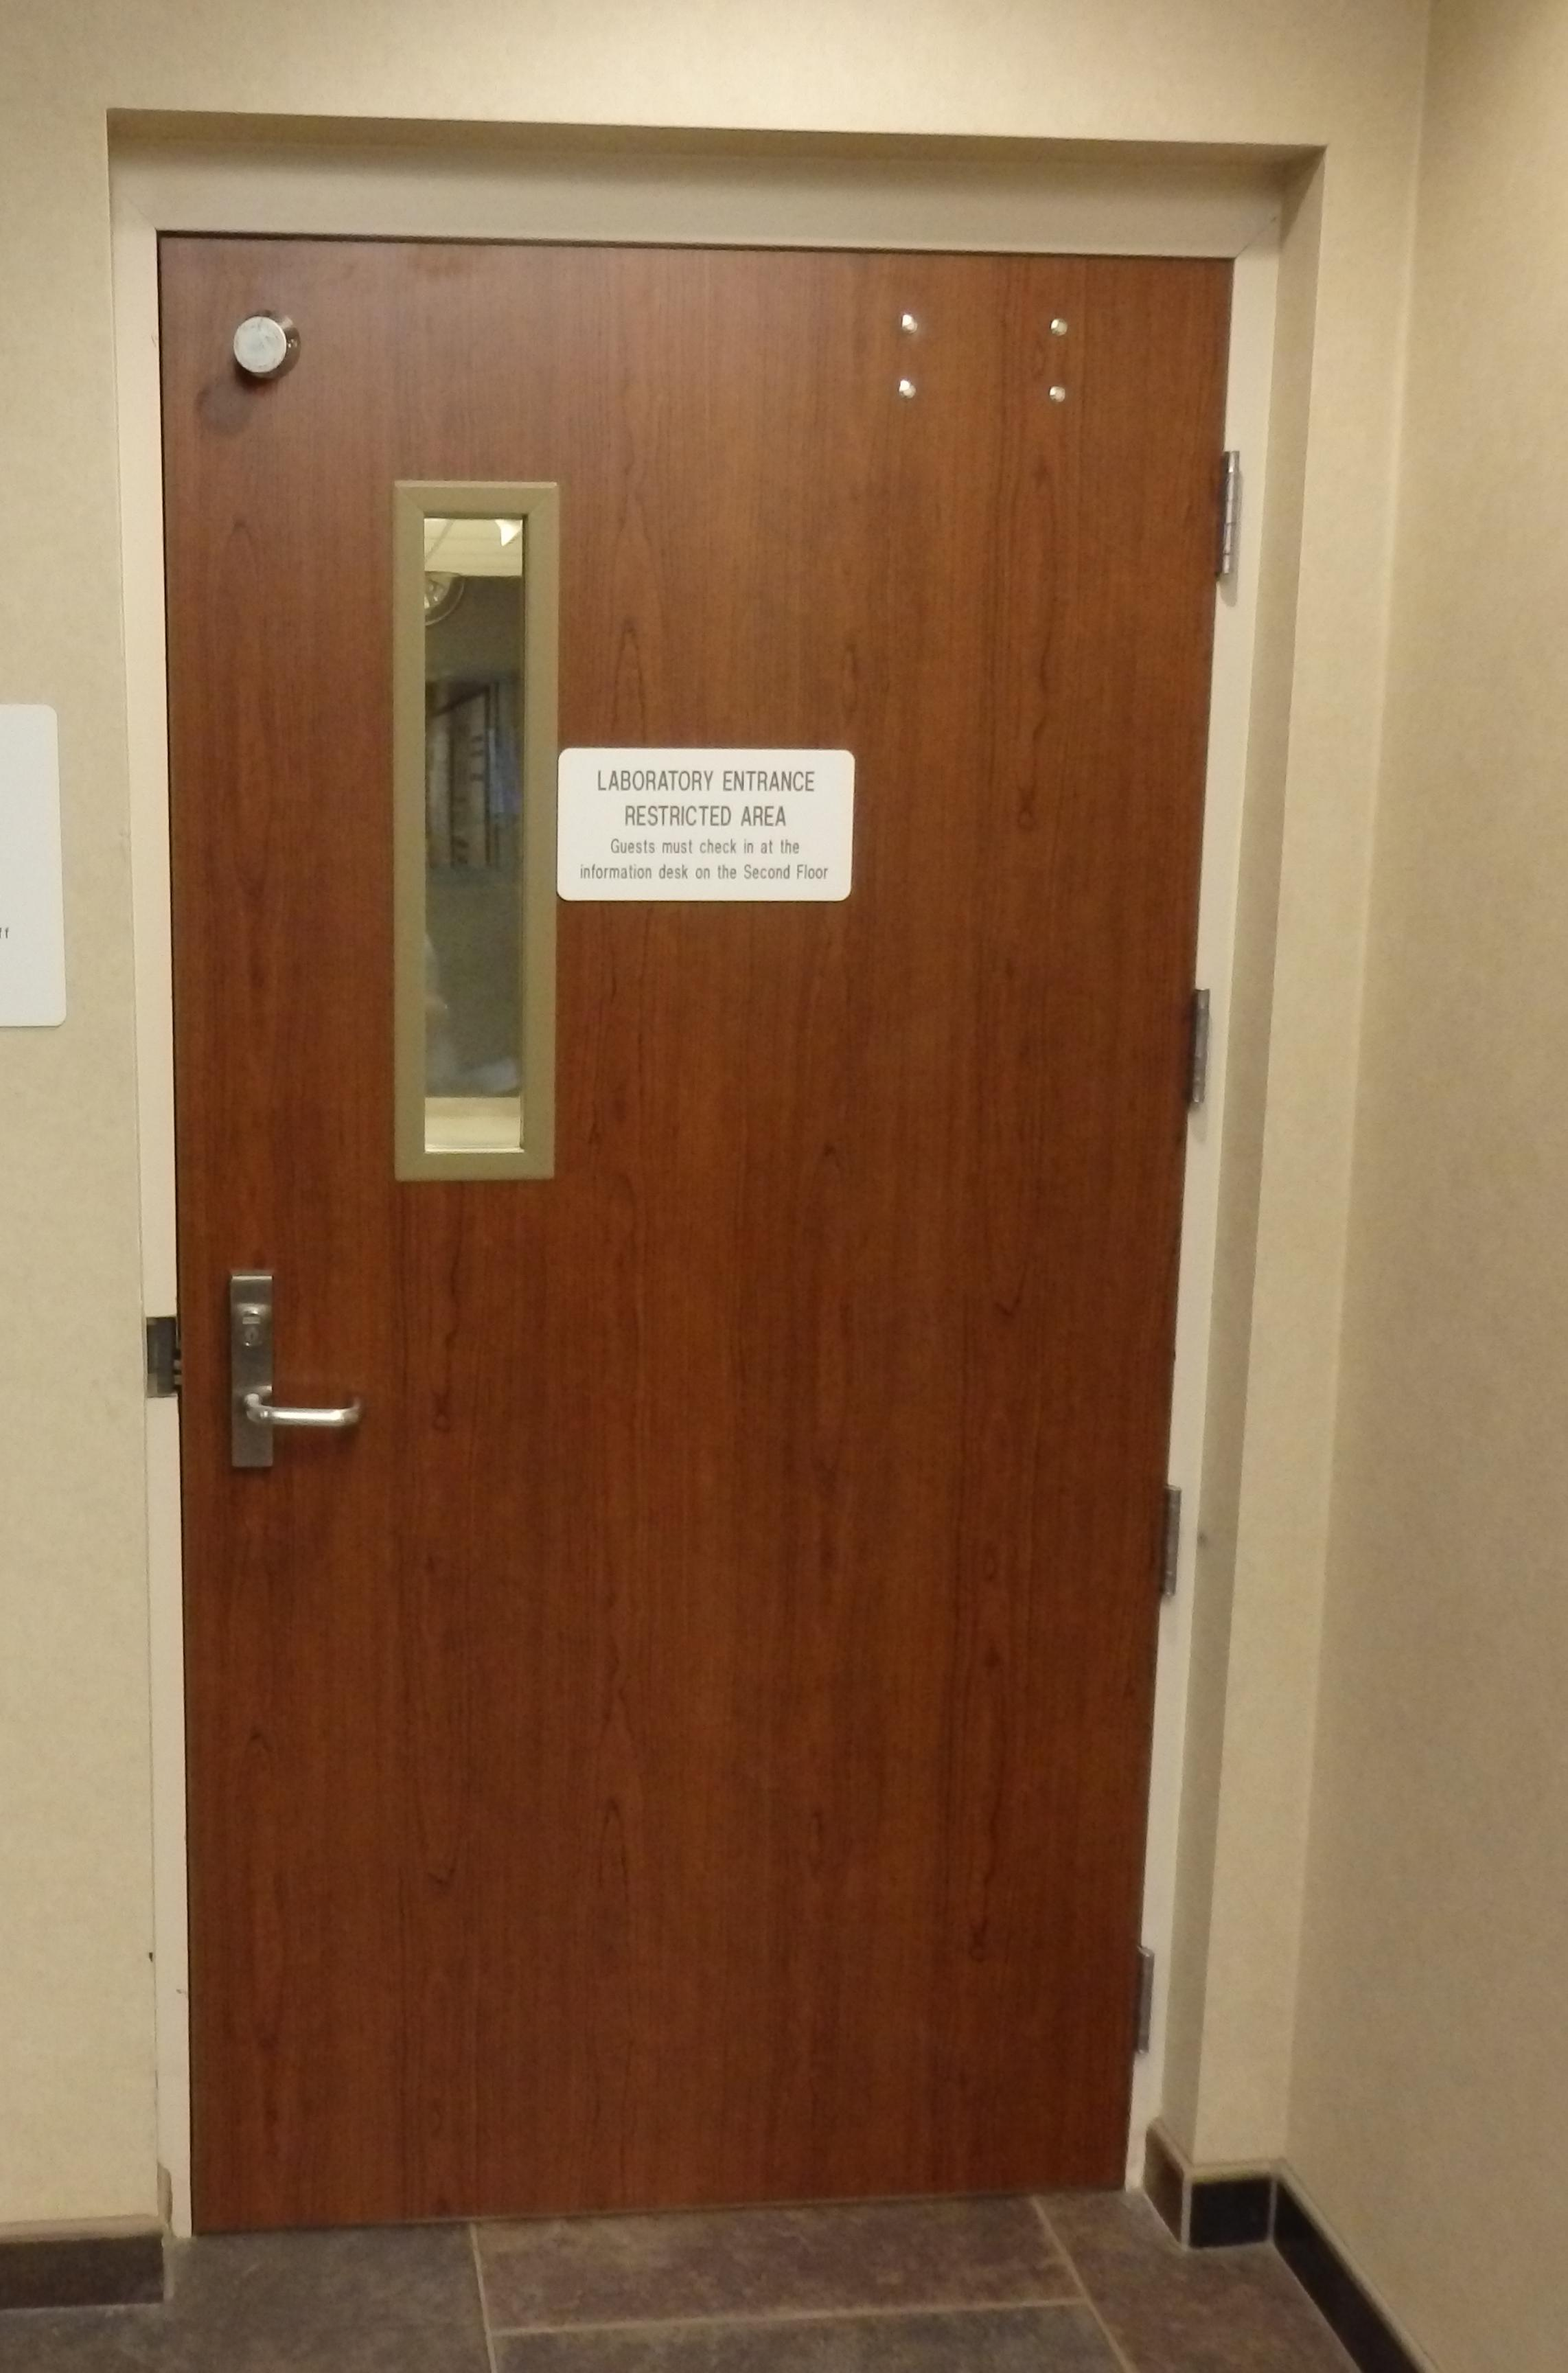door: (115, 126, 1169, 2228)
